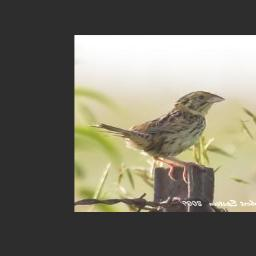Sparrow: (86, 90, 227, 184)
